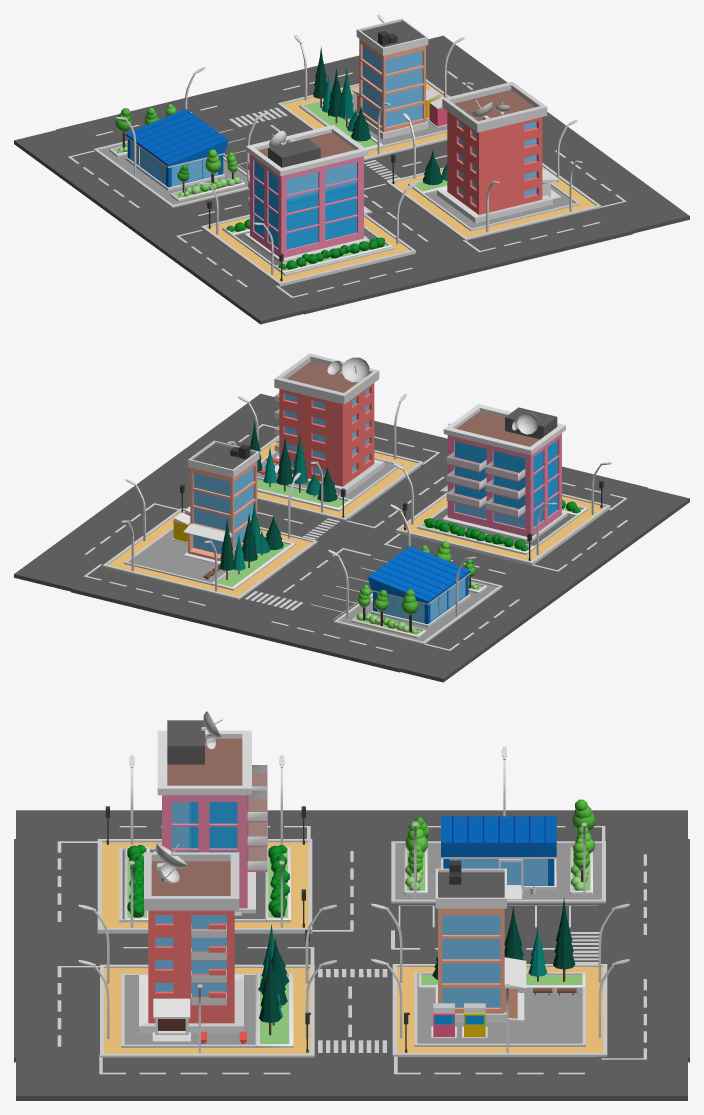
Rendered from Lowpoly_City.fbx.
3 renders of one model, top to bottom at view 1: azimuth 30°, elevation 25°; view 2: azimuth 150°, elevation 25°; view 3: azimuth 270°, elevation 25°, orthographic. The views are drawn at different scales.
Parts seen in each view (by area): view 1: ROAD, House, House_2, House_3, Shop, Floor, Floor_2, Floor_4_4, Floor_3, Floor_4_2, Bushes, Floor_4 (+4 smaller); view 2: ROAD, House, House_2, House_3, Shop, Floor_3, Floor, Floor_4_3, Floor_2, Floor_4_4, Floor_4_5, Cube_7_2 (+6 smaller); view 3: ROAD, House_2, House, House_3, Shop, Floor_4_3, Floor_2, Floor_3, Floor, Floor_4_4, Floor_4_2, Floor_4_5 (+12 smaller).
Boxes of the visible parts, x1,y1,x2,y2 form: ROAD: (14,35,689,324); House: (244,125,372,263); House_2: (437,81,561,223); House_3: (352,18,428,139); Shop: (125,109,228,190); Floor: (201,213,415,286); Floor_2: (386,163,601,240); Floor_4_4: (93,140,249,207); Floor_3: (277,79,449,160); Floor_4_2: (408,182,579,231); Bushes: (278,237,385,269); Floor_4: (222,226,394,275); ROAD: (14,393,689,682); House: (440,404,567,542); House_2: (274,353,384,494); House_3: (183,440,259,564); Shop: (368,546,470,627); Floor_3: (102,507,317,599); Floor: (395,492,610,565); Floor_4_3: (124,526,296,590); Floor_2: (257,435,423,520); Floor_4_4: (334,578,502,644); Floor_4_5: (301,558,388,619); Cube_7_2: (211,541,294,589); ROAD: (14,810,689,1100); House_2: (139,852,243,1042); House: (154,720,267,915); House_3: (435,860,526,1022); Shop: (441,816,556,899); Floor_4_3: (414,972,585,1046); Floor_2: (100,964,314,1057); Floor_3: (392,964,607,1056); Floor: (97,839,312,933); Floor_4_4: (391,841,605,903); Floor_4_2: (121,973,292,1047); Floor_4_5: (397,903,597,927).
Size of the model in its own units: 2192 by 609 by 2192.
1 material, 1 textured.
